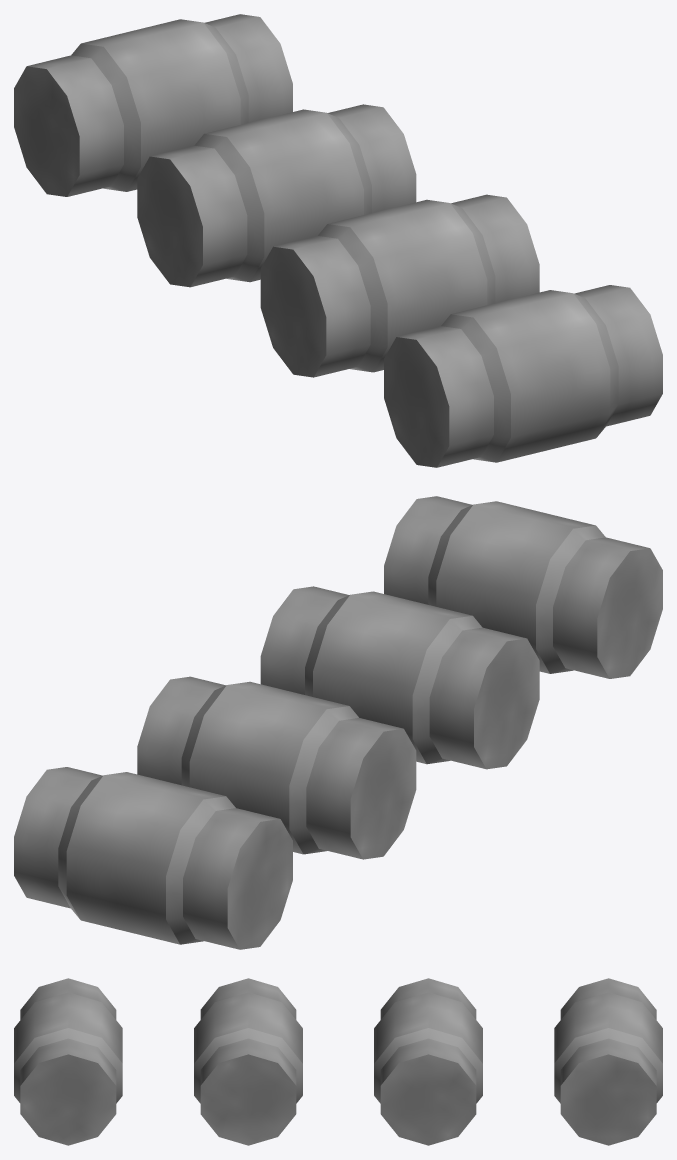
Rendered from Conduit_Socket_4X.fbx.
3 renders of one model, top to bottom at view 1: azimuth 30°, elevation 25°; view 2: azimuth 150°, elevation 25°; view 3: azimuth 270°, elevation 25°, orthographic. The views are drawn at different scales.
Visible parts, largest first — view 1: Conduit_Socket_4X; view 2: Conduit_Socket_4X; view 3: Conduit_Socket_4X.
Part boxes in pixels (x1=…): Conduit_Socket_4X: x1=14, y1=14, x2=662, y2=467; Conduit_Socket_4X: x1=14, y1=496, x2=662, y2=949; Conduit_Socket_4X: x1=14, y1=978, x2=662, y2=1145.
Bounding box in the file's own units: 0.1 × 0.0635 × 0.3604.
